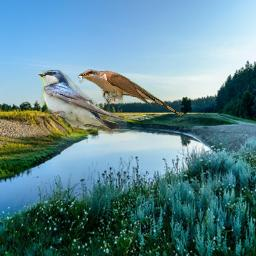Cuckoo: (76, 69, 184, 117)
Swallow: (38, 70, 127, 136)
